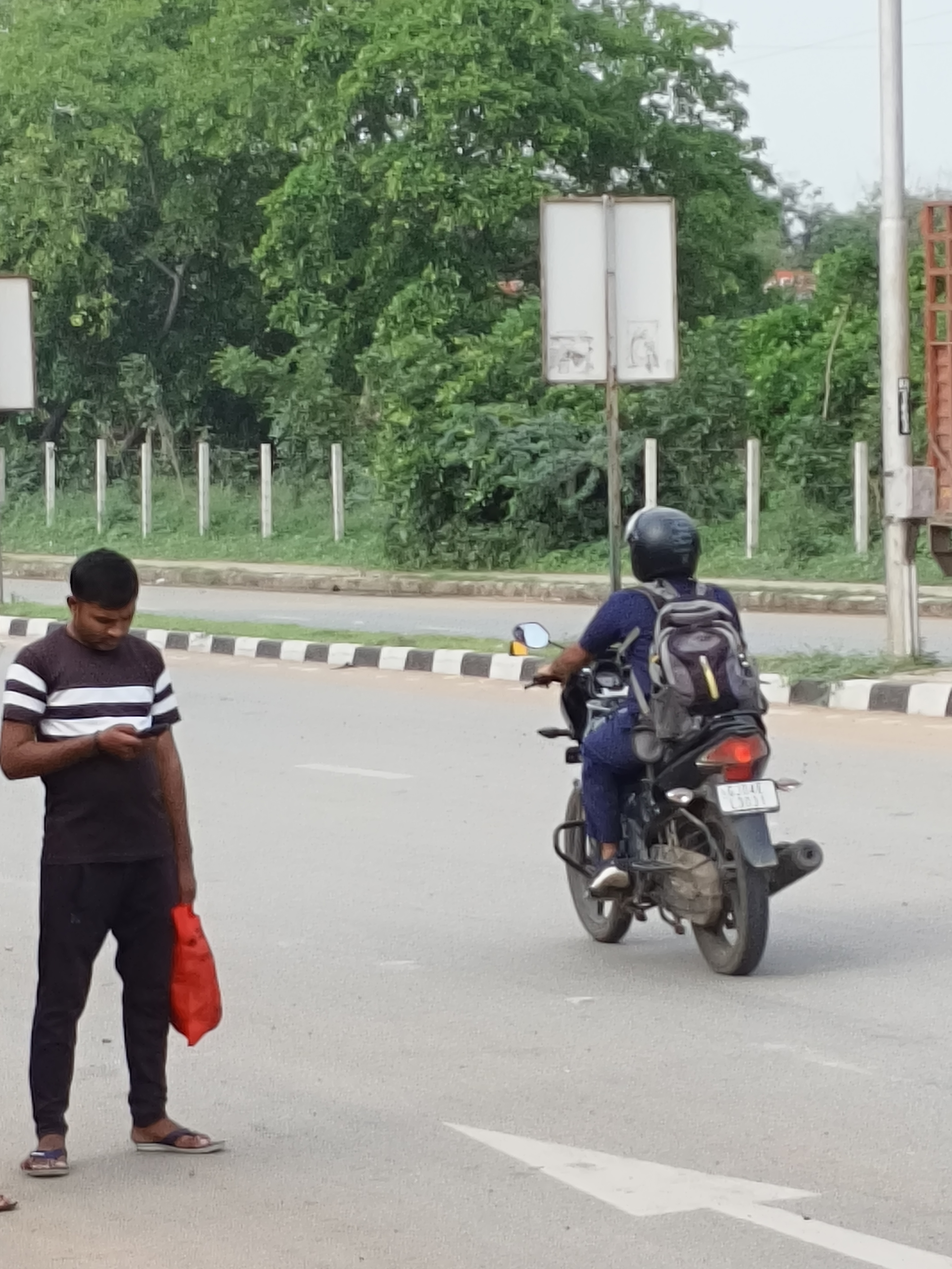BikeWithRider: (506, 498, 826, 980)
Helmet: (620, 500, 704, 583)
